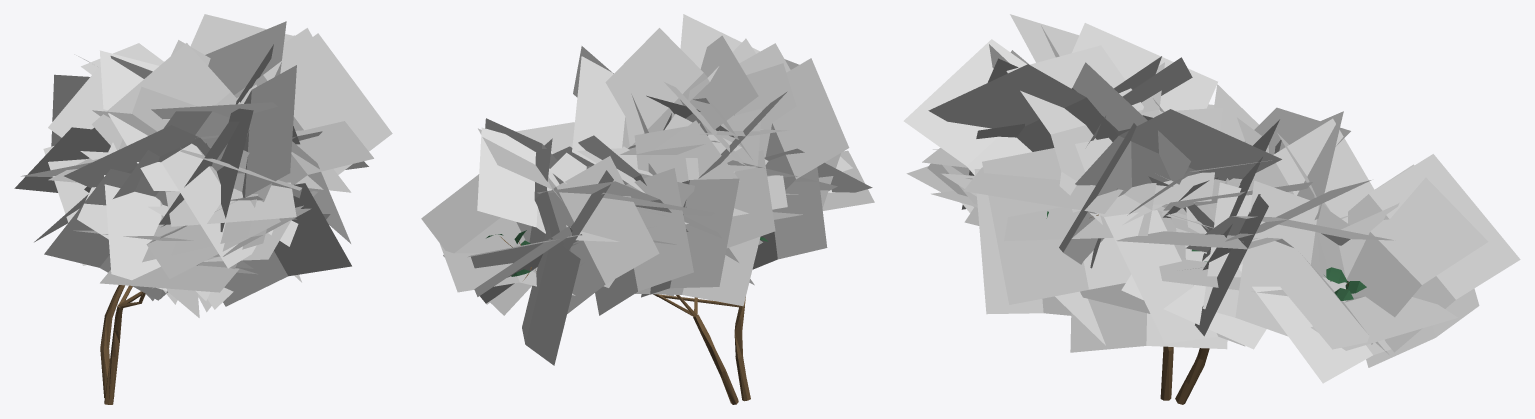
Rendered from Myrte_Incline_LOD2.fbx.
The picture shows the model from 3 angles, left to right: view 1: azimuth 30°, elevation 25°; view 2: azimuth 150°, elevation 25°; view 3: azimuth 270°, elevation 25°; orthographic projection. The views are drawn at different scales.
Parts seen in each view (by area): view 1: Myrte_Incline_LOD2; view 2: Myrte_Incline_LOD2; view 3: Myrte_Incline_LOD2.
Boxes of the visible parts, x1,y1,x2,y2 form: Myrte_Incline_LOD2: (14, 14, 392, 404); Myrte_Incline_LOD2: (421, 14, 874, 404); Myrte_Incline_LOD2: (903, 14, 1520, 404).
Size of the model in its own units: 271 by 251 by 341.
